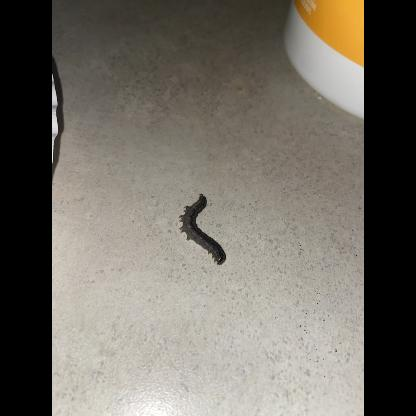Fall Armyworm Larvae: (177, 193, 227, 267)
